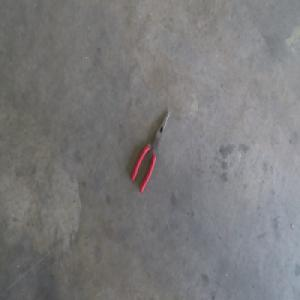Pliers: (130, 111, 170, 195)
